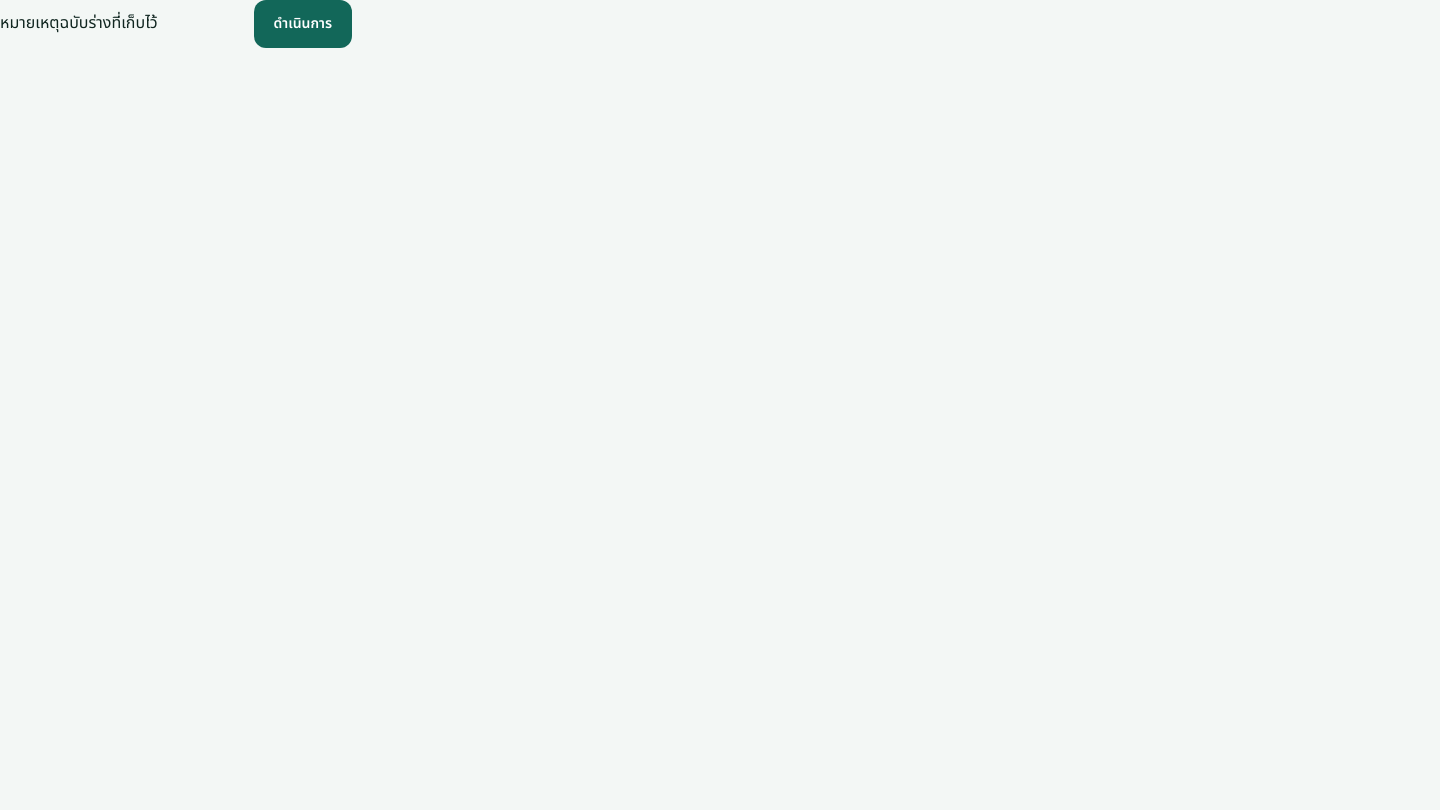
Test case: ConfirmableActionForm › surfaces a CONFLICT server error without reporting success
Submit the form with test id "submit-action", box top-left (0, 0), bottom-right (352, 48)
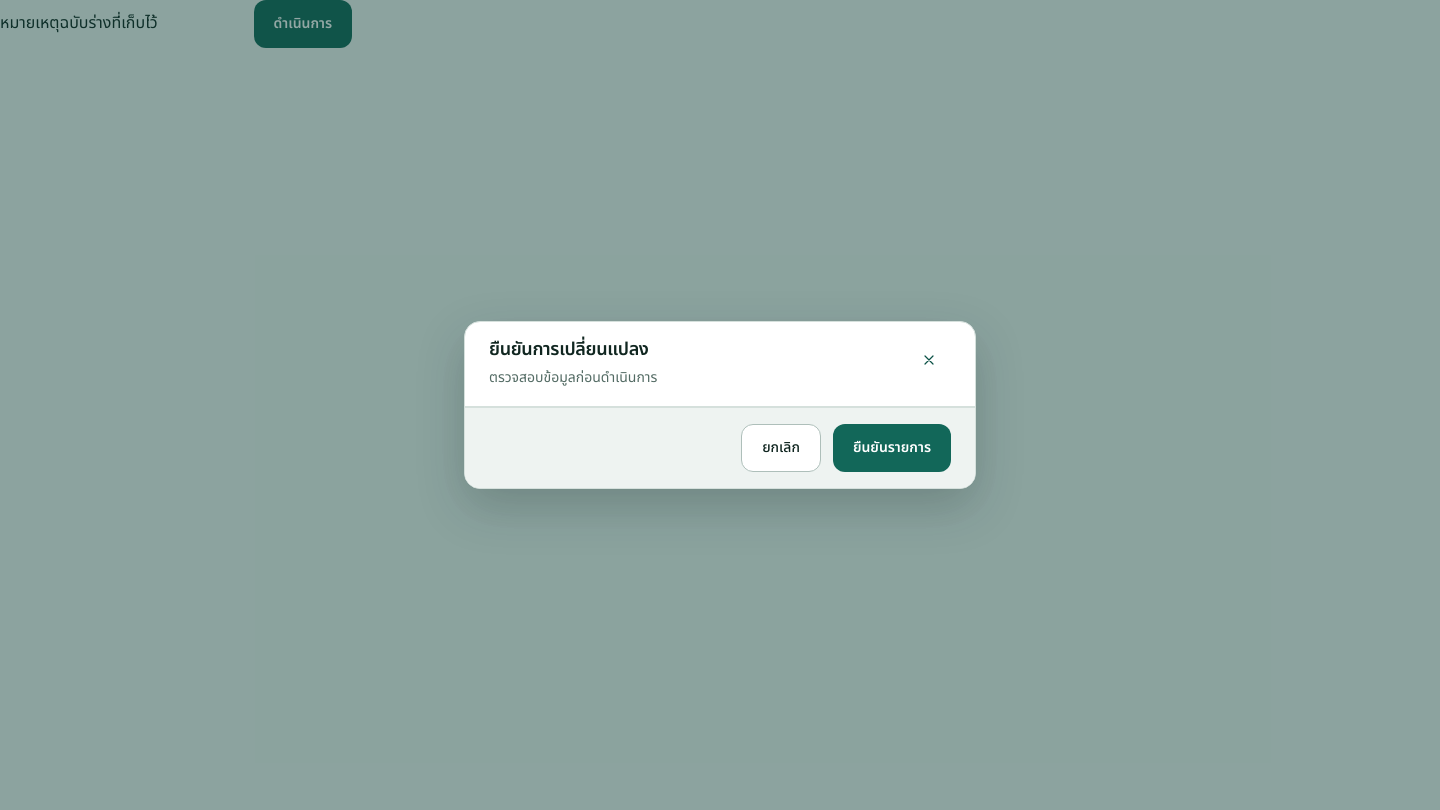
Click the button "ยืนยันรายการ".
click(892, 448)  # box top-left (833, 424), bottom-right (951, 472)
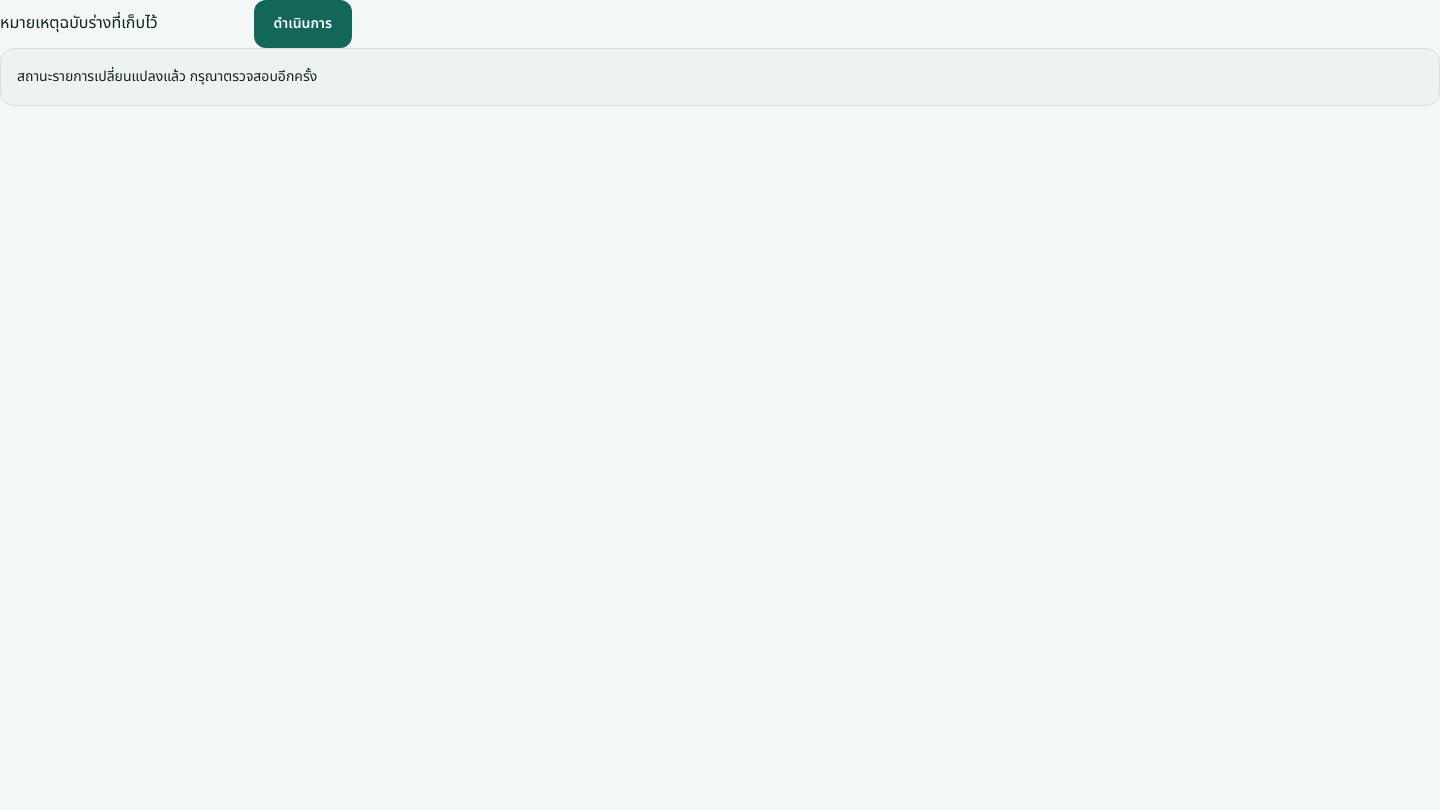
Now the dialog is gone
Now the message "สถานะรายการเปลี่ยนแปลงแล้ว กรุณาตรวจสอบอีกครั้ง" is shown, box top-left (0, 48), bottom-right (1439, 106)
